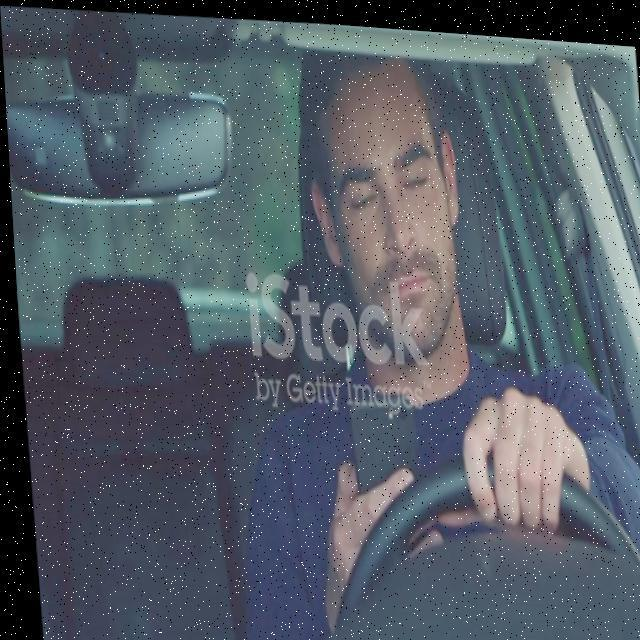PhoneCall: (342, 377, 414, 533)
